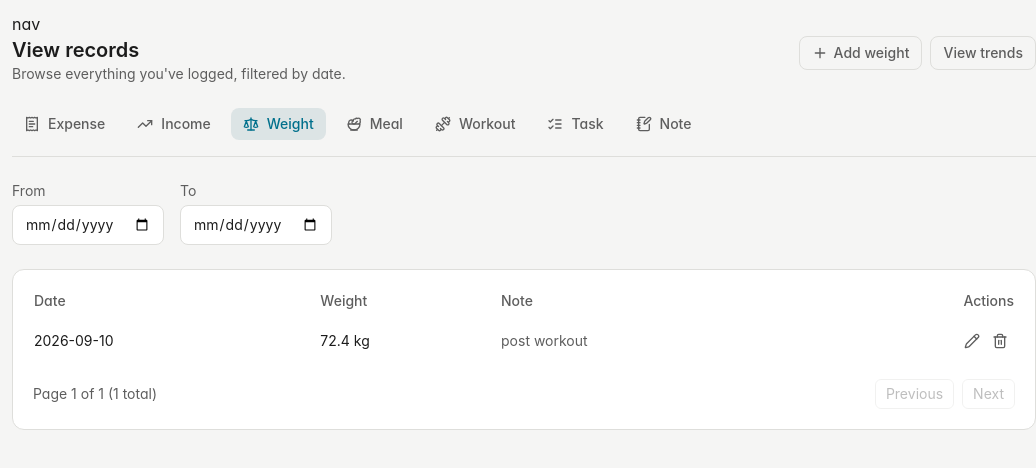
Test case: RecordsPage - routing por tipo › al elegir un tipo navega a su ruta y el link del sidebar sigue activo
This screenshot has width=1036, height=468.
Click the button "Note". click: (664, 124)
box: [624,108,704,140]
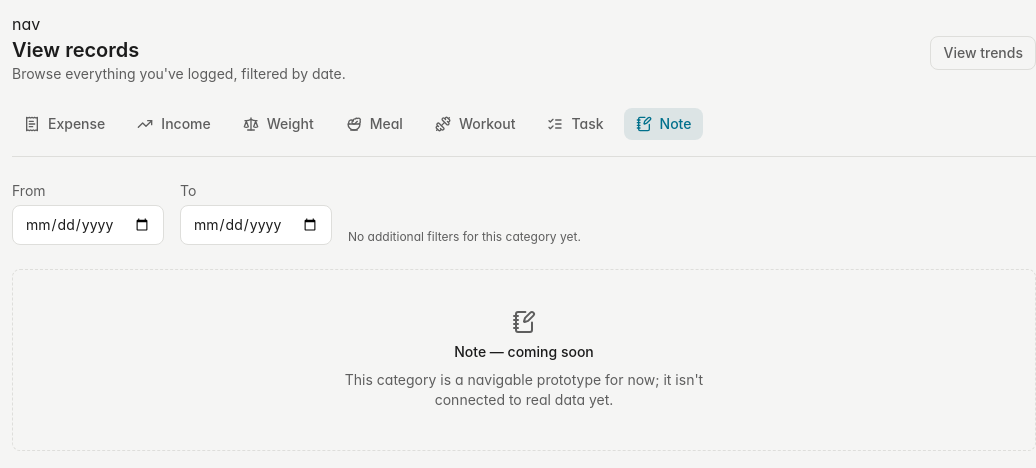
Result: the text "Note — coming soon" is shown at [454,342,594,362]
